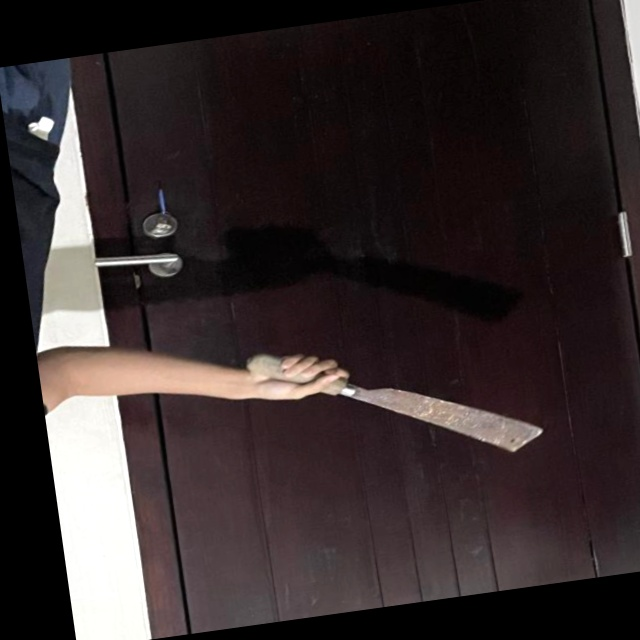Sharp-Object: (243, 314, 548, 490)
